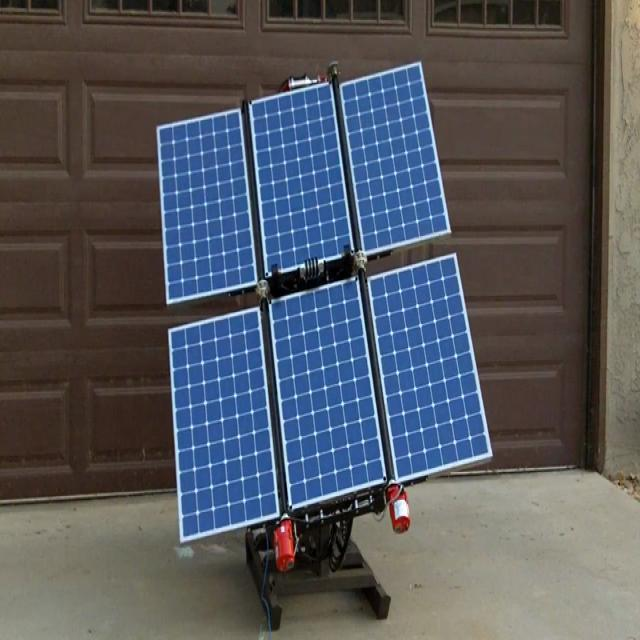Normal Solar Panel: (370, 257, 491, 483), (270, 280, 385, 511), (170, 310, 278, 541), (341, 61, 450, 255), (251, 85, 353, 272), (159, 110, 257, 302)
